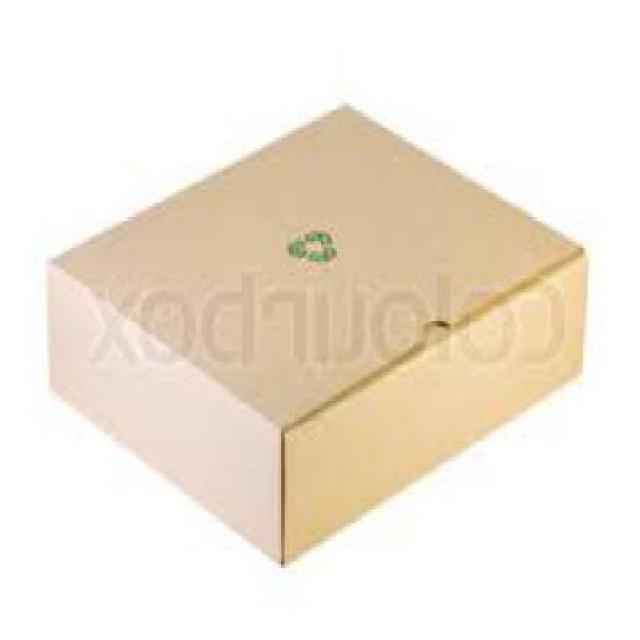CARDBOARD: (50, 99, 585, 558)
